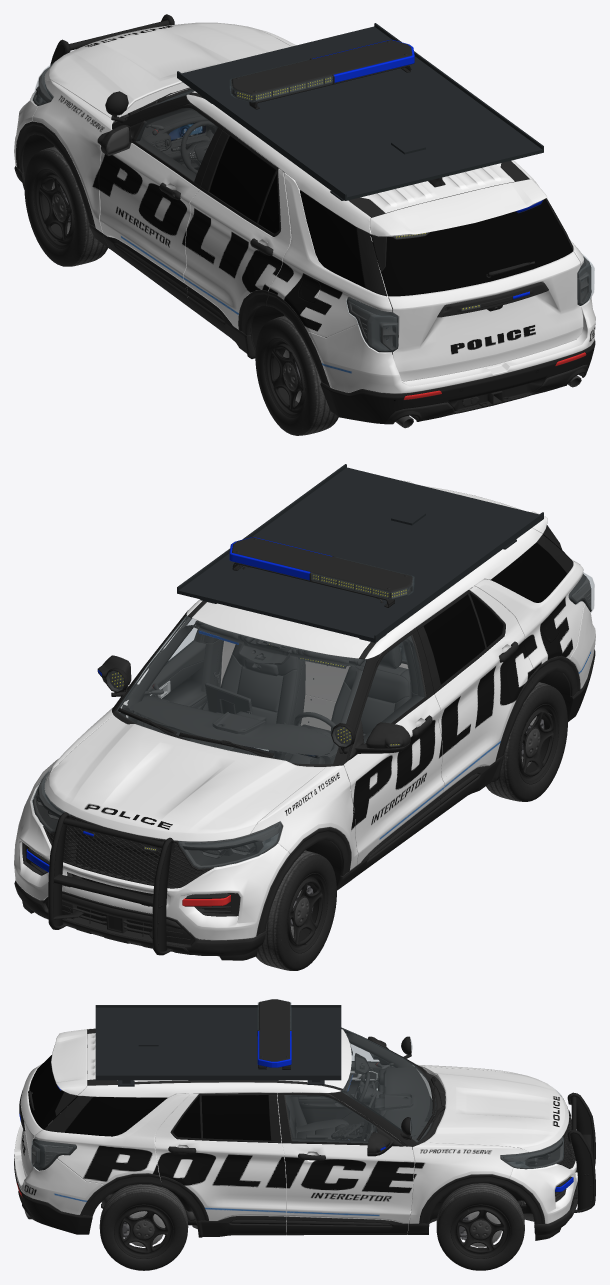
File: us_police_suv.glb
3 views of the same model, one above another, from view 1: azimuth 30°, elevation 25°; view 2: azimuth 150°, elevation 25°; view 3: azimuth 270°, elevation 25° (orthographic). The views are drawn at different scales.
Parts seen in each view (by area): view 1: USBody, USRoofDeck, USGlass, WheelRearLeft, WheelFrontLeft, USEdgeRail, USEdgeRail.001; view 2: USBody, USGlass, USRoofDeck, WheelFrontLeft, WheelRearLeft, USEdgeRail, USEdgeRail.001; view 3: USBody, USRoofDeck, USGlass, WheelFrontRight, WheelRearRight, USEdgeRail.001, USEdgeRail.
Boxes of the visible parts, bbox=[...] form: USBody: bbox=[14, 14, 595, 428]; USRoofDeck: bbox=[177, 26, 543, 200]; USGlass: bbox=[32, 61, 594, 351]; WheelRearLeft: bbox=[255, 315, 338, 435]; WheelFrontLeft: bbox=[24, 146, 107, 266]; USEdgeRail: bbox=[177, 71, 346, 197]; USEdgeRail.001: bbox=[374, 23, 543, 149]; USBody: bbox=[14, 480, 595, 960]; USGlass: bbox=[32, 559, 594, 868]; USRoofDeck: bbox=[177, 467, 543, 641]; WheelFrontLeft: bbox=[256, 850, 336, 970]; WheelRearLeft: bbox=[486, 682, 567, 801]; USEdgeRail: bbox=[374, 512, 543, 638]; USEdgeRail.001: bbox=[177, 464, 346, 590]; USBody: bbox=[14, 999, 595, 1240]; USRoofDeck: bbox=[95, 1007, 341, 1080]; USGlass: bbox=[31, 1002, 563, 1170]; WheelFrontRight: bbox=[436, 1183, 524, 1270]; WheelRearRight: bbox=[99, 1184, 188, 1270]; USEdgeRail.001: bbox=[95, 1075, 341, 1077]; USEdgeRail: bbox=[95, 1005, 341, 1007].
Size of the model in its own units: 2.3 by 1.95 by 5.21.
5 materials, 3 textured.
